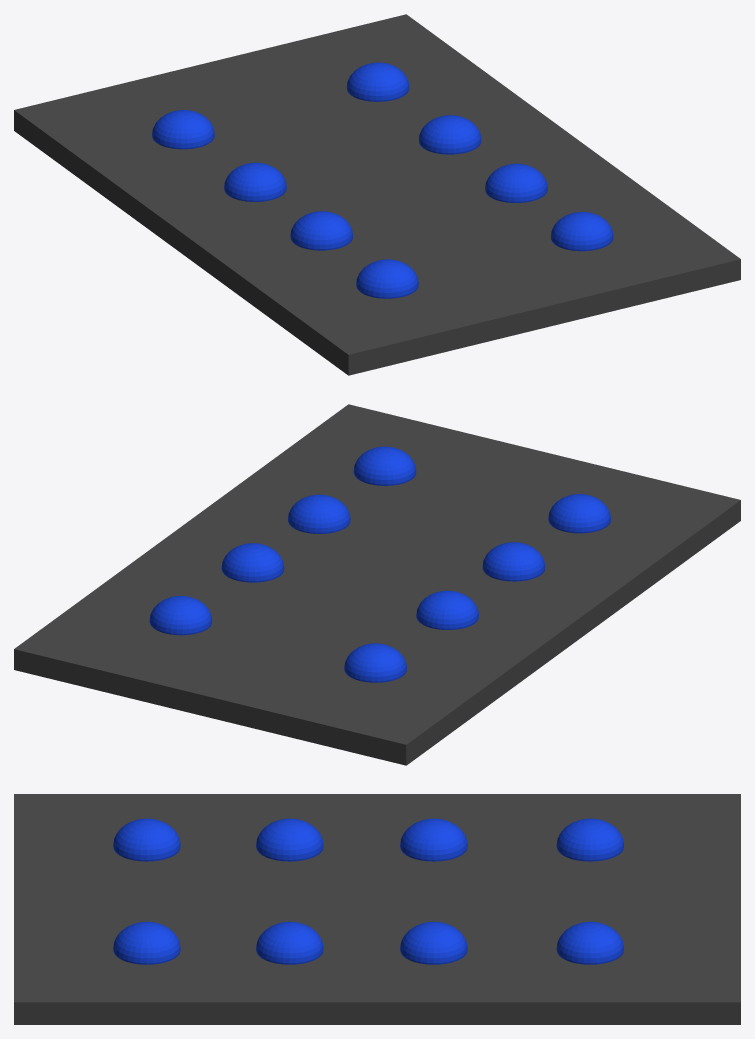
Rendered from Drug1.fbx.
3 renders of one model, top to bottom at view 1: azimuth 30°, elevation 25°; view 2: azimuth 150°, elevation 25°; view 3: azimuth 270°, elevation 25°, orthographic. The views are drawn at different scales.
Parts seen in each view (by area): view 1: Cube, Sphere, Sphere.003, Sphere.005, Sphere.006, Sphere.004, Sphere.007, Sphere.002, Sphere.001; view 2: Cube, Sphere.005, Sphere.003, Sphere.007, Sphere.002, Sphere, Sphere.004, Sphere.001, Sphere.006; view 3: Cube, Sphere.007, Sphere, Sphere.003, Sphere.004, Sphere.006, Sphere.002, Sphere.005, Sphere.001.
Part boxes in pixels (bbox=[...]): Cube: bbox=[14, 14, 740, 375]; Sphere: bbox=[356, 259, 418, 298]; Sphere.003: bbox=[290, 211, 352, 250]; Sphere.005: bbox=[418, 115, 481, 154]; Sphere.006: bbox=[346, 62, 409, 101]; Sphere.004: bbox=[224, 162, 286, 201]; Sphere.007: bbox=[152, 110, 214, 149]; Sphere.002: bbox=[485, 163, 547, 202]; Sphere.001: bbox=[551, 212, 613, 251]; Cube: bbox=[14, 404, 740, 765]; Sphere.005: bbox=[221, 543, 284, 582]; Sphere.003: bbox=[482, 542, 545, 581]; Sphere.007: bbox=[344, 643, 406, 682]; Sphere.002: bbox=[288, 494, 350, 533]; Sphere: bbox=[548, 494, 610, 533]; Sphere.004: bbox=[416, 590, 478, 629]; Sphere.001: bbox=[353, 446, 416, 485]; Sphere.006: bbox=[149, 596, 212, 635]; Cube: bbox=[14, 794, 740, 1024]; Sphere.007: bbox=[556, 818, 624, 861]; Sphere: bbox=[113, 818, 180, 861]; Sphere.003: bbox=[256, 818, 323, 861]; Sphere.004: bbox=[400, 818, 467, 861]; Sphere.006: bbox=[556, 921, 624, 964]; Sphere.002: bbox=[256, 921, 323, 964]; Sphere.005: bbox=[400, 921, 467, 964]; Sphere.001: bbox=[113, 921, 180, 964].
Size of the model in its own units: 12.03 by 1.27 by 17.76.
